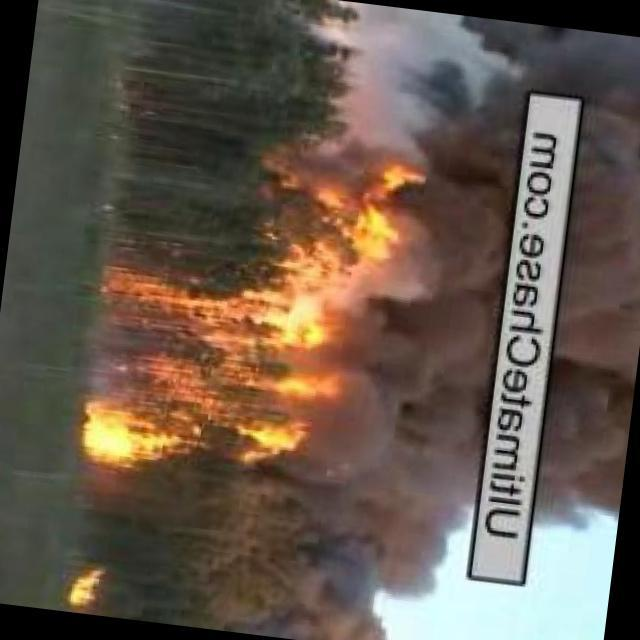Fire: (66, 271, 339, 488), (276, 137, 419, 272), (63, 558, 119, 610)
